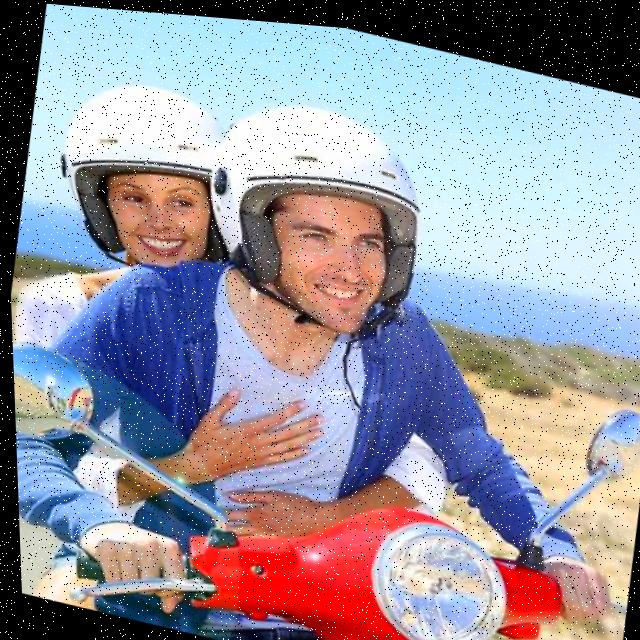helmet: (180, 71, 444, 357), (33, 57, 238, 289)
